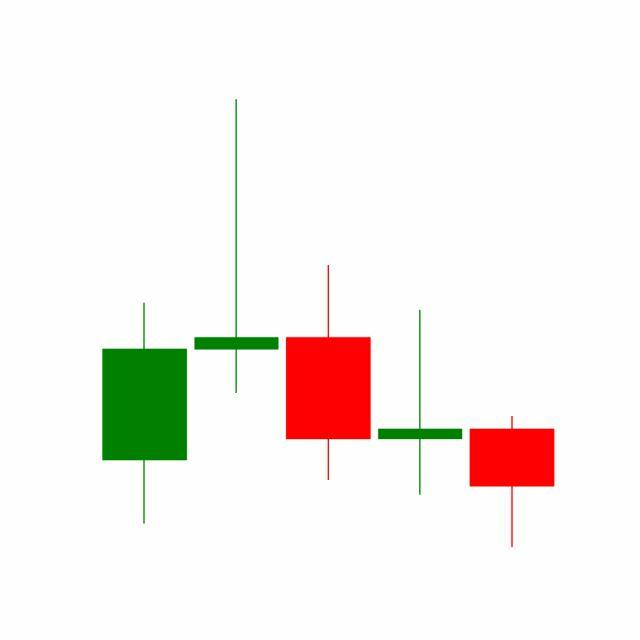Hammer: (466, 415, 559, 550)
